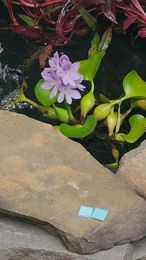water_hyacinth: (8, 21, 146, 155)
